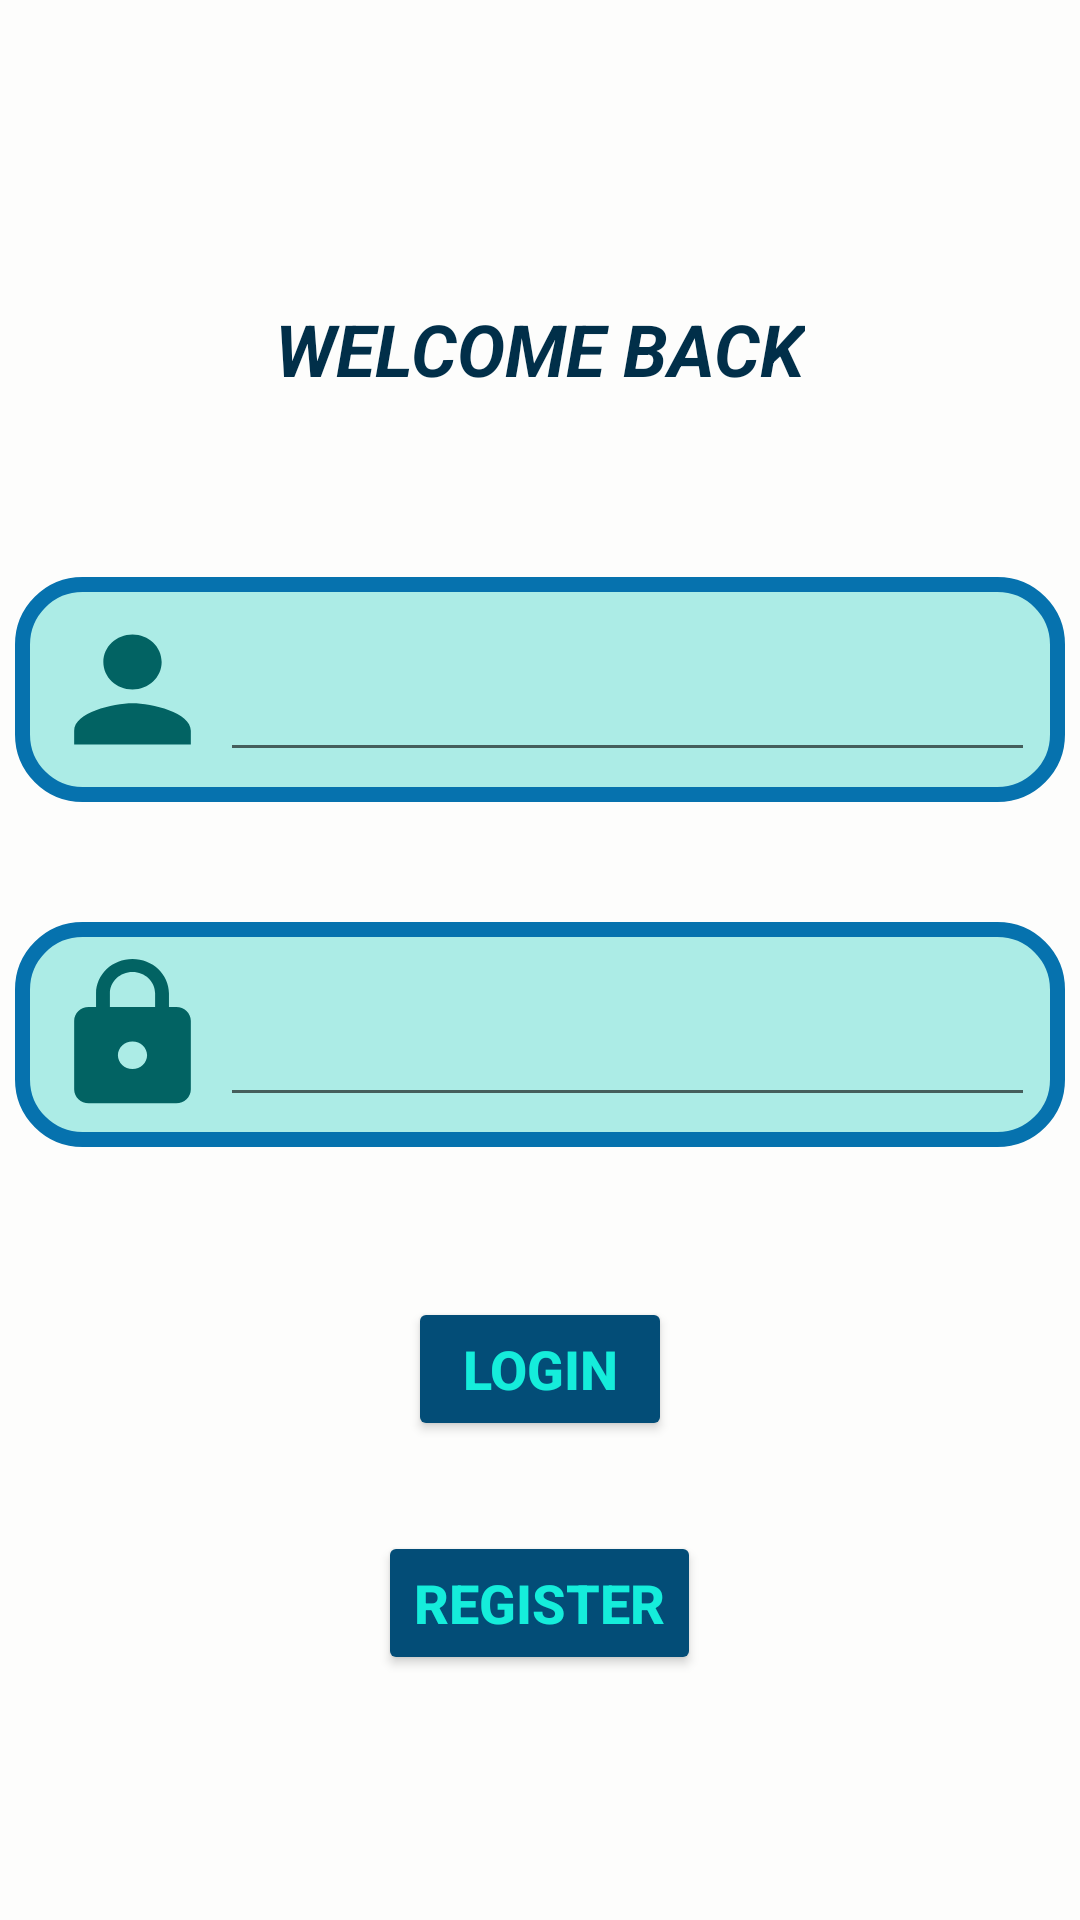

Icon click points for this 1080x1920 phone screenshot, format (x,y):
password: (132,1031)
username: (132,689)
